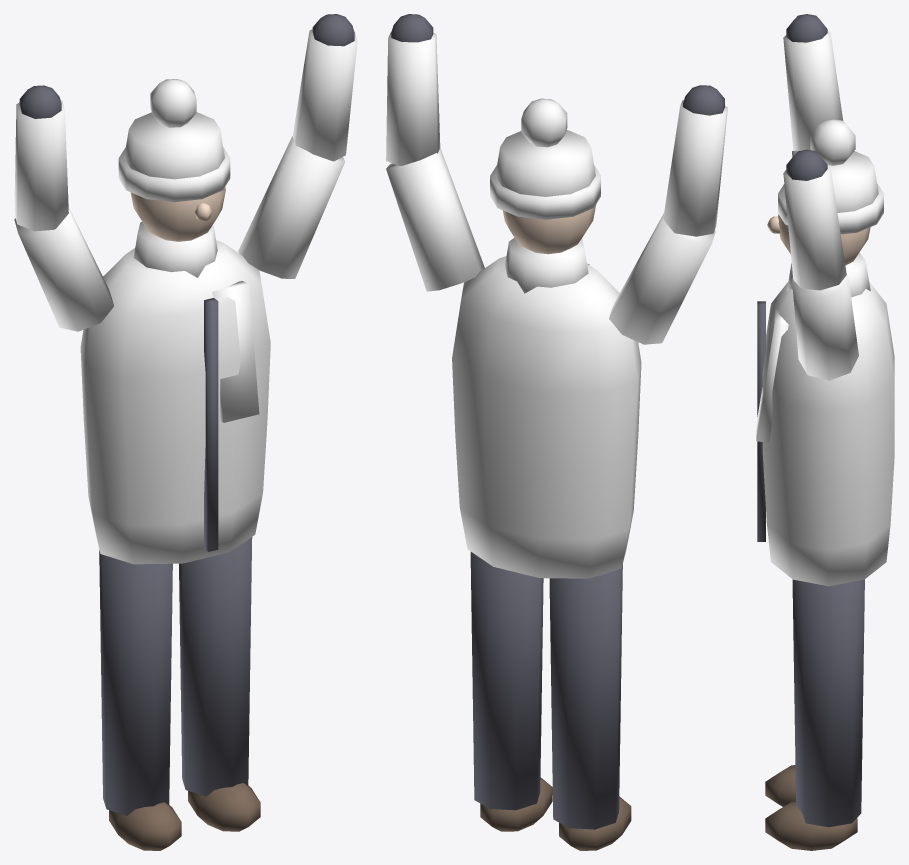
File: spectator.glb
3 renders of one model, left to right at view 1: azimuth 30°, elevation 25°; view 2: azimuth 150°, elevation 25°; view 3: azimuth 270°, elevation 25°, orthographic. The views are drawn at different scales.
Visible parts, largest first — view 1: spectator; view 2: spectator; view 3: spectator.
Boxes of the visible parts, x1=… form: spectator: x1=14, y1=14, x2=357, y2=850; spectator: x1=386, y1=14, x2=727, y2=850; spectator: x1=756, y1=14, x2=894, y2=850.
Bounding box in the file's own units: 0.8497 × 1.9 × 0.3194.
